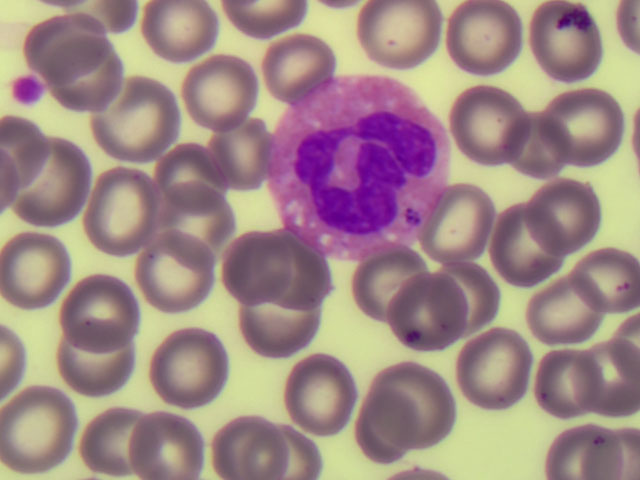Platelets: (10, 72, 50, 111)
RBC: (153, 140, 231, 218), (194, 106, 272, 184), (176, 48, 254, 126), (138, 2, 216, 80), (260, 25, 338, 103), (131, 236, 209, 314), (65, 273, 143, 351), (51, 321, 129, 399), (1, 394, 79, 472), (74, 402, 152, 480), (123, 402, 201, 480), (208, 402, 286, 480), (240, 402, 318, 480), (288, 354, 366, 432), (243, 289, 321, 367), (219, 229, 297, 307), (250, 229, 328, 307), (357, 244, 435, 322), (390, 267, 468, 345), (418, 252, 496, 330), (380, 362, 458, 440), (351, 394, 429, 472), (459, 333, 537, 411), (525, 268, 603, 346), (562, 238, 640, 316), (532, 181, 610, 259), (496, 202, 574, 280), (423, 184, 501, 262), (440, 83, 518, 161), (492, 108, 570, 186), (544, 90, 622, 168), (367, 2, 445, 80), (528, 2, 606, 80), (525, 342, 603, 420), (1, 235, 78, 313), (446, 1, 524, 78), (157, 328, 231, 405), (52, 43, 126, 120), (25, 5, 99, 82), (96, 81, 170, 158), (20, 143, 94, 220), (84, 171, 158, 248), (153, 181, 227, 258), (546, 426, 626, 480), (583, 343, 640, 416)
WBC: (271, 75, 448, 263)
